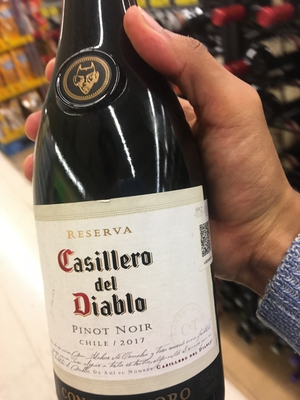casillero del diablo pinot noir: (32, 19, 229, 400)
